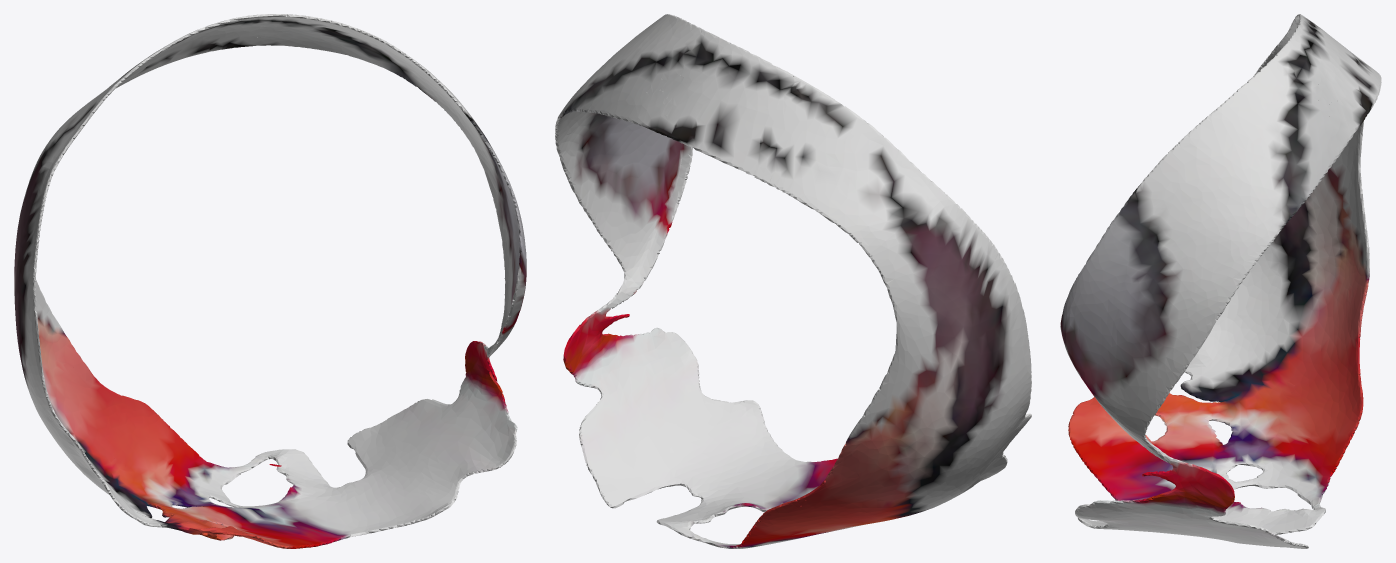
Rendered from ring_war.glb.
3 renders of one model, left to right at view 1: azimuth 30°, elevation 25°; view 2: azimuth 150°, elevation 25°; view 3: azimuth 270°, elevation 25°, orthographic. The views are drawn at different scales.
Visible parts, largest first — view 1: geometry_0; view 2: geometry_0; view 3: geometry_0.
Part boxes in pixels (<box>): geometry_0: <box>14,14,526,548</box>; geometry_0: <box>555,14,1031,548</box>; geometry_0: <box>1060,14,1381,548</box>.
Bounding box in the file's own units: 0.5938 × 0.5953 × 0.3695.
